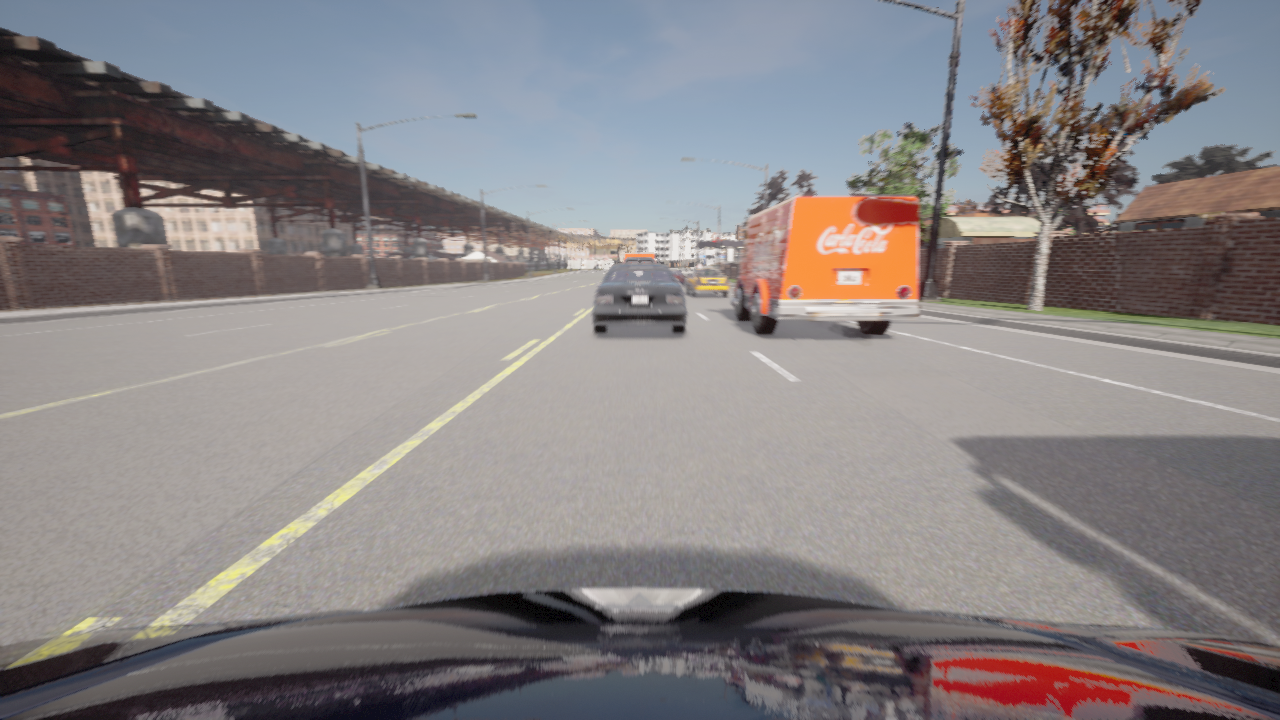cyclist: (0, 588, 1279, 719), (727, 195, 920, 334), (593, 264, 687, 333), (686, 266, 729, 296), (624, 253, 655, 263), (671, 270, 686, 284), (625, 258, 654, 263)
